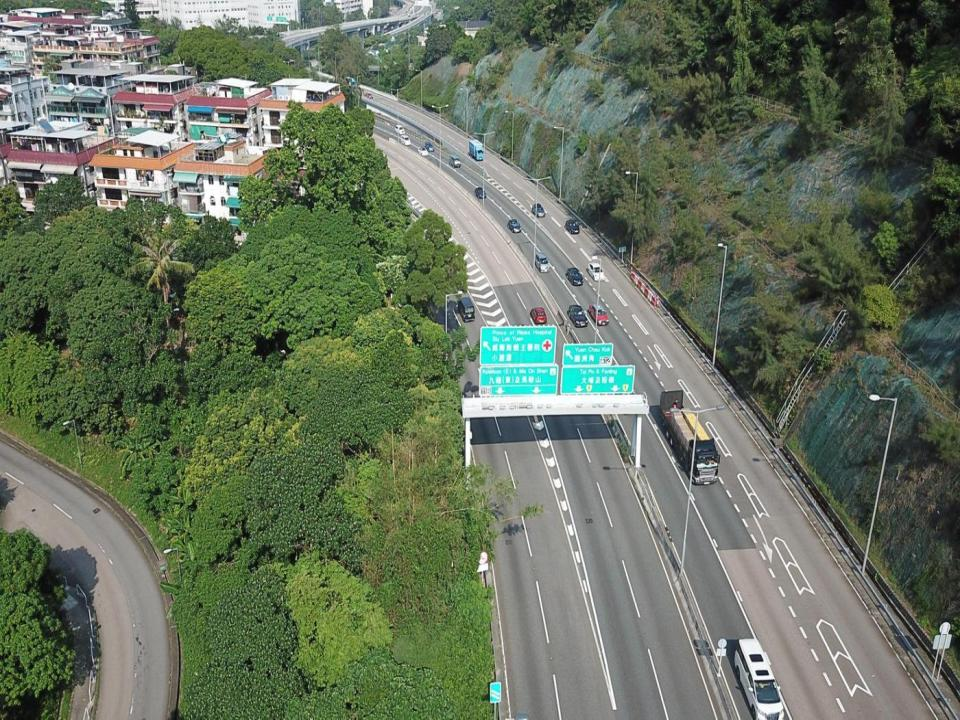car: (733, 638, 784, 719), (588, 302, 610, 326), (568, 305, 588, 328), (534, 251, 551, 273), (587, 262, 605, 282), (529, 306, 548, 324), (566, 267, 584, 286), (564, 219, 580, 235), (507, 218, 522, 233), (531, 203, 545, 217), (473, 186, 487, 200), (448, 154, 462, 168), (394, 124, 406, 136), (424, 140, 435, 152), (400, 134, 411, 146), (417, 146, 428, 156), (363, 92, 374, 100)
truck: (659, 389, 720, 485), (468, 139, 485, 161)
van: (457, 296, 475, 322)
